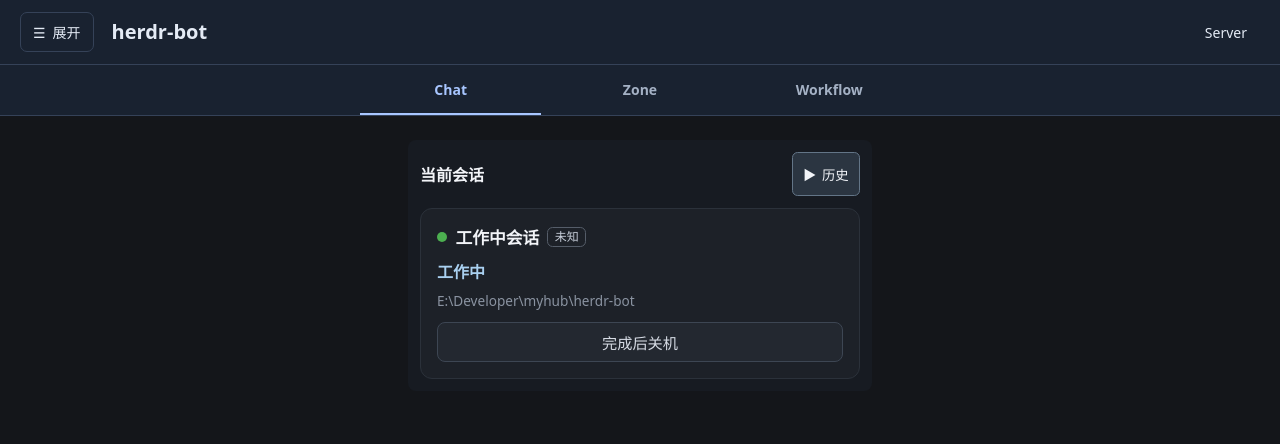
Test: 完成后关机监听的选择与撤销 › 监听回执先到、观察尚未更新时按钮不乐观变色，只反馈这次命令的归宿
Click the tab with test id "tab-sessions": (451,90) [360,65,541,115]
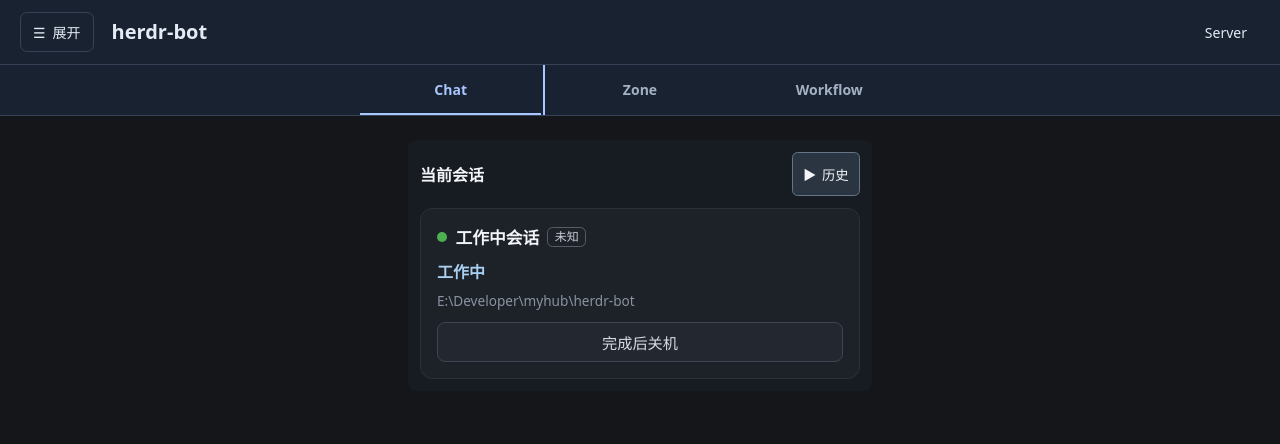
Click the button with test id "monitor-button": (640,342) [437,322,843,362]
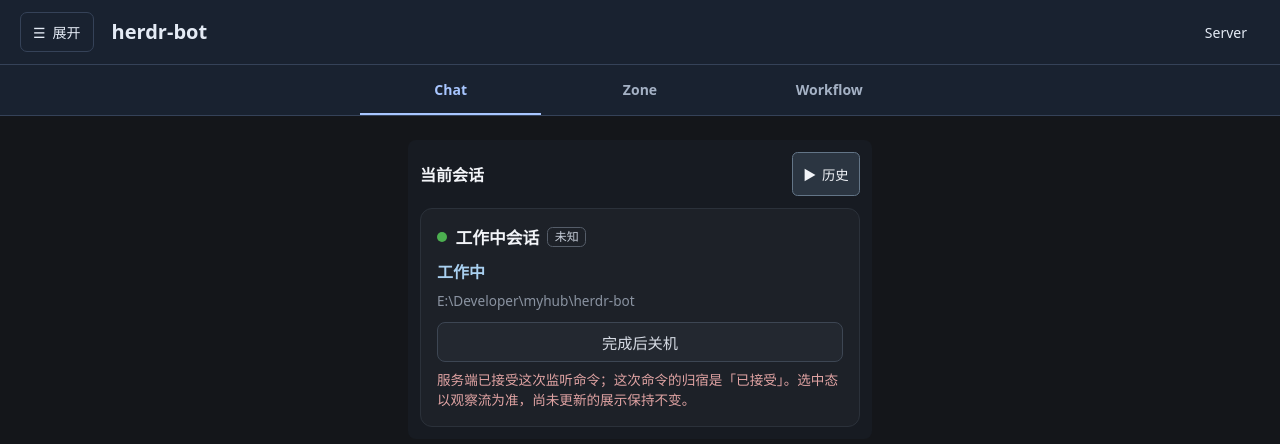
Result: the message with test id "monitor-status" shows "已接受这次监听命令" at [437,370,838,409]
